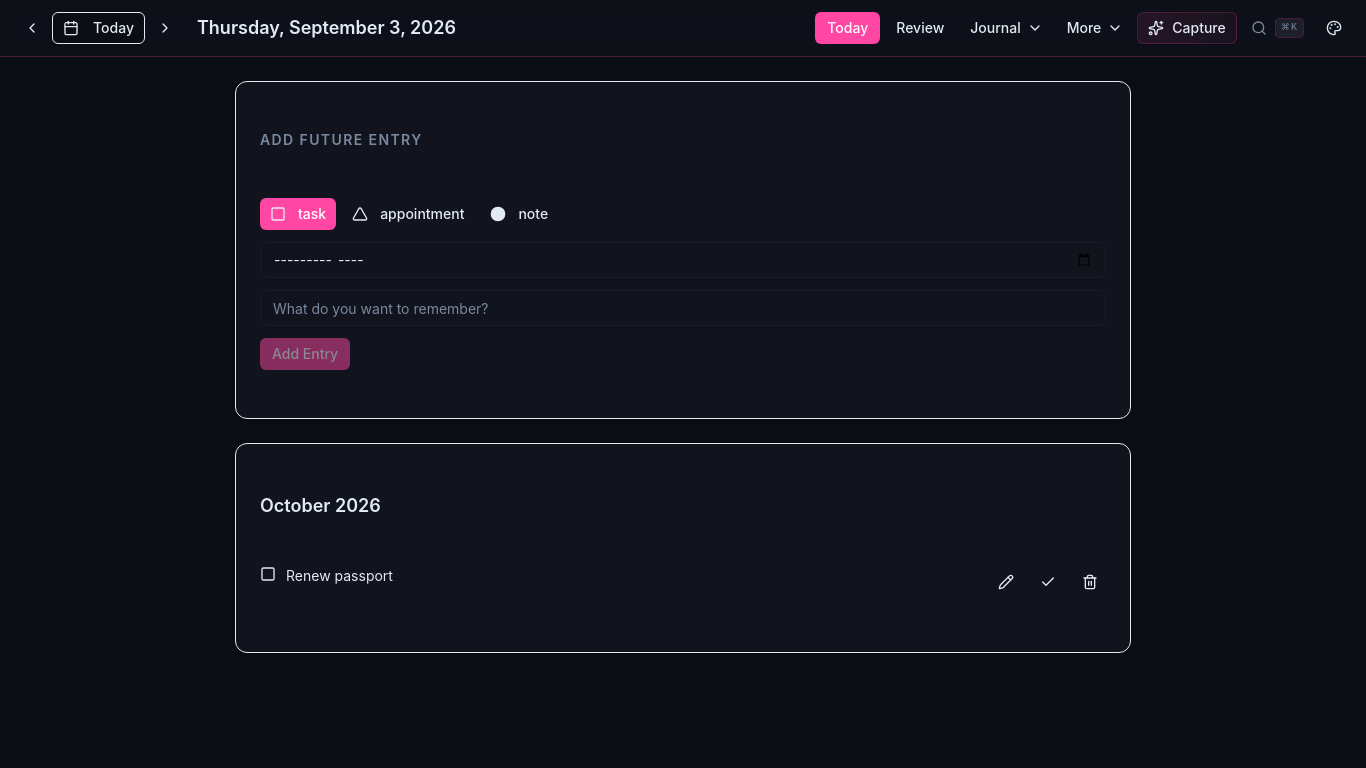
Test: Future Log lifecycle › preserves the entry and offers retry when marking migrated fails
Click the button named "Mark Renew passport migrated" at (1048, 582), box [1032, 566, 1064, 598]
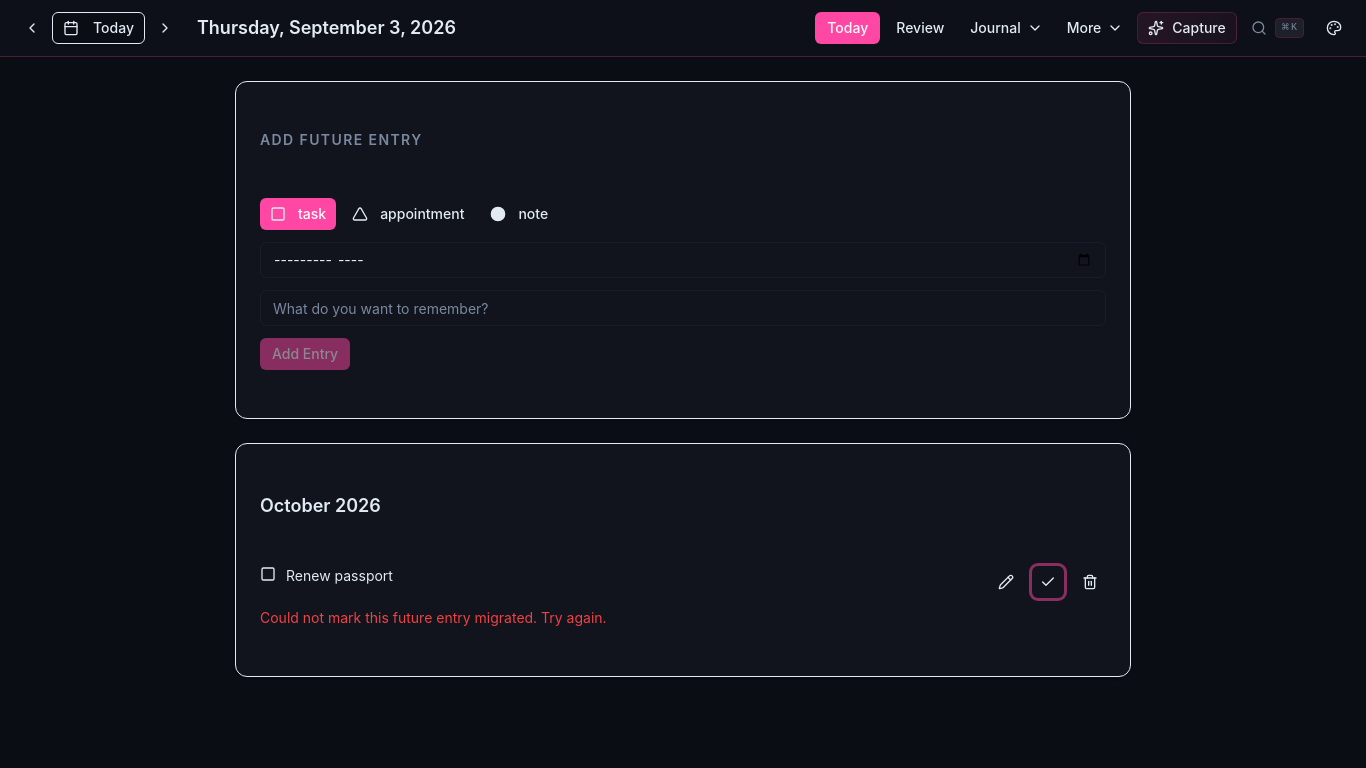
Expected: the text "Renew passport" is shown, [286, 567, 393, 584]
Expected: the message reads "Could not mark this future entry migrated. Try again.", [260, 609, 607, 626]
